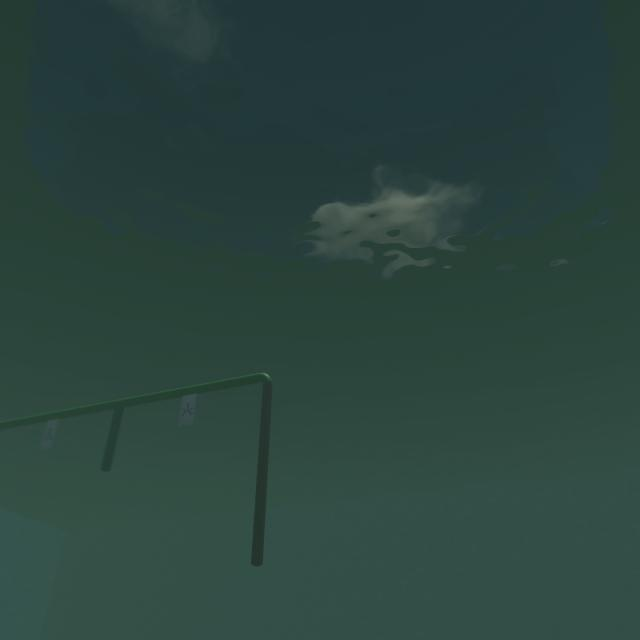gate: (2, 370, 274, 569)
